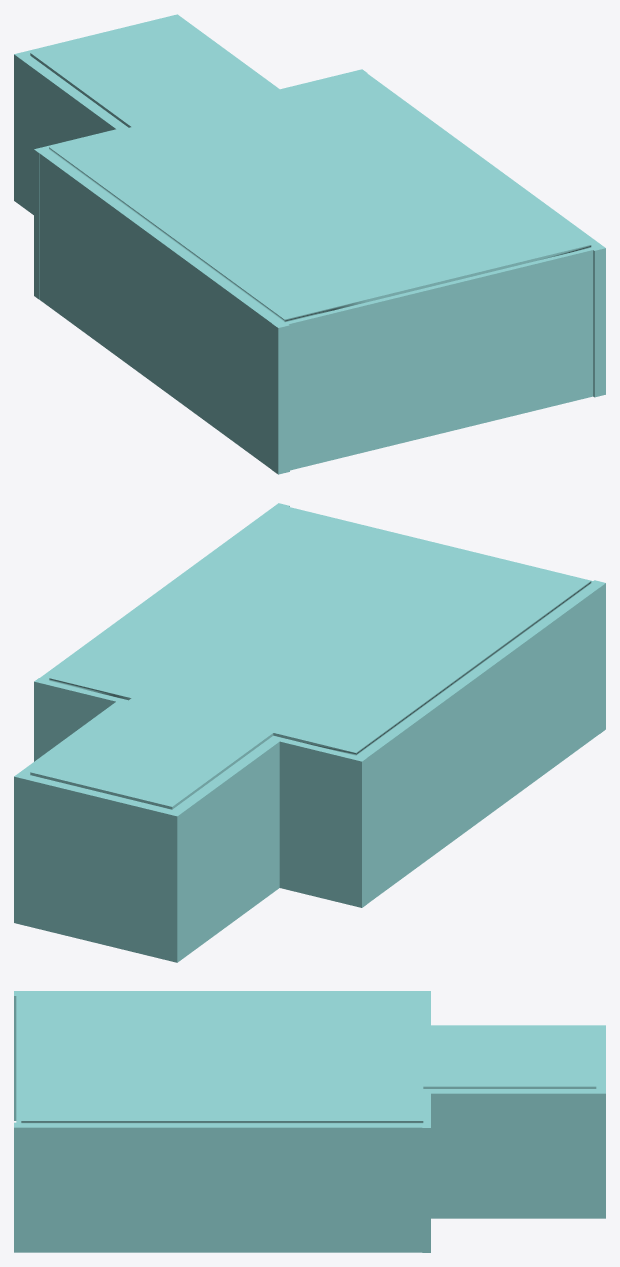
File: FYP_infirmary_graybox.fbx
3 renders of one model, top to bottom at view 1: azimuth 30°, elevation 25°; view 2: azimuth 150°, elevation 25°; view 3: azimuth 270°, elevation 25°, orthographic. The views are drawn at different scales.
Visible parts, largest first — view 1: ceiling, wall03, wall01, wall02, wall04; view 2: ceiling, wall02, wall01, wall04, wall03; view 3: ceiling, wall04, wall02, wall01, wall03.
Part boxes in pixels (x1,y1,x2,y2): ceiling: (30,18,591,322); wall03: (271,247,593,473); wall01: (39,150,289,474); wall02: (14,14,366,299); wall04: (358,71,605,397); ceiling: (30,506,591,809); wall02: (14,678,367,962); wall01: (354,580,605,903); wall04: (38,503,289,680); wall03: (591,580,604,733); ceiling: (21,993,596,1123); wall04: (14,1122,422,1252); wall02: (422,991,605,1252); wall01: (14,991,425,1120); wall03: (16,991,24,1122).
Bounding box in the file's own units: 19.39 × 8.45 × 35.46.
